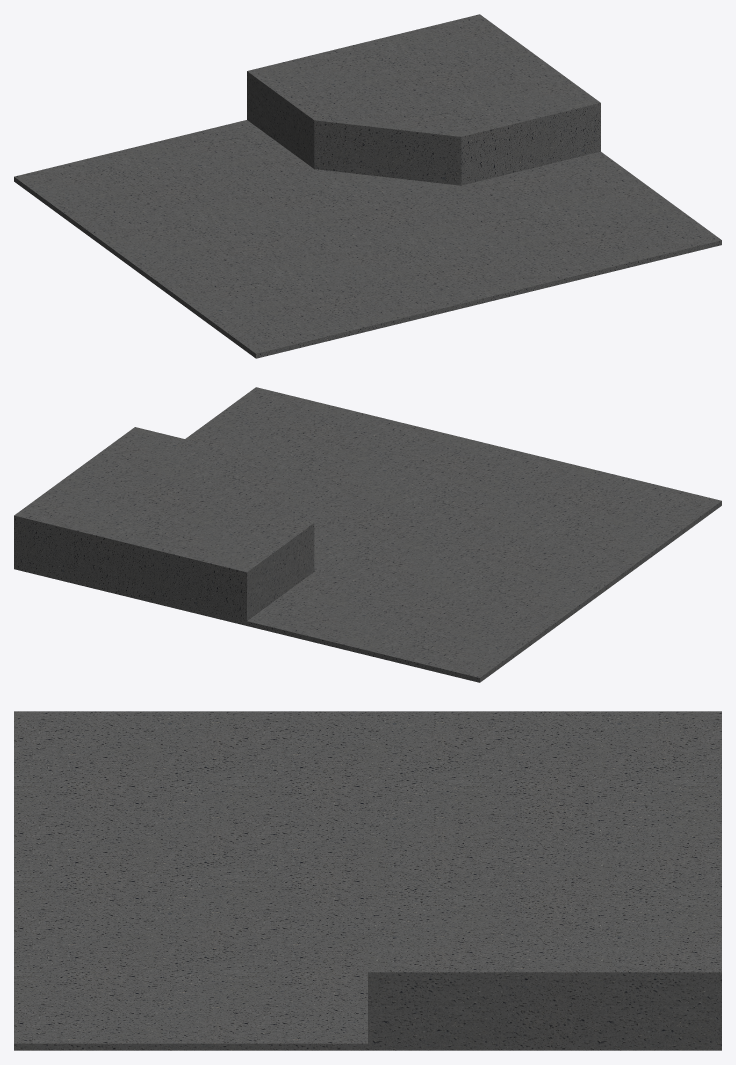
Rendered from floor.obj.
The picture shows the model from 3 angles, top to bottom: view 1: azimuth 30°, elevation 25°; view 2: azimuth 150°, elevation 25°; view 3: azimuth 270°, elevation 25°; orthographic projection. The views are drawn at different scales.
Visible parts, largest first — view 1: |floor|Root|dark_concrete_2d; view 2: |floor|Root|dark_concrete_2d; view 3: |floor|Root|dark_concrete_2d.
Boxes of the visible parts, bbox=[...] form: |floor|Root|dark_concrete_2d: bbox=[14, 14, 721, 358]; |floor|Root|dark_concrete_2d: bbox=[14, 387, 721, 682]; |floor|Root|dark_concrete_2d: bbox=[14, 711, 721, 1050].
Bounding box in the file's own units: 1 × 0.11 × 0.9.
1 material, 1 textured.
